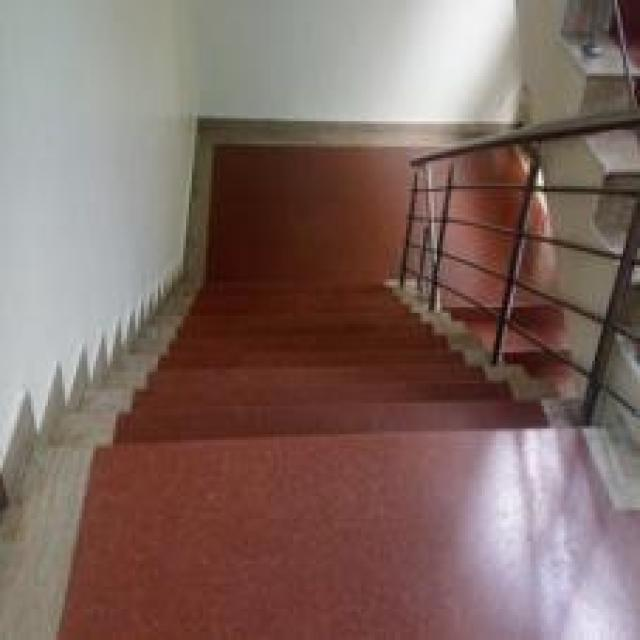downstair: (60, 328, 582, 506)
